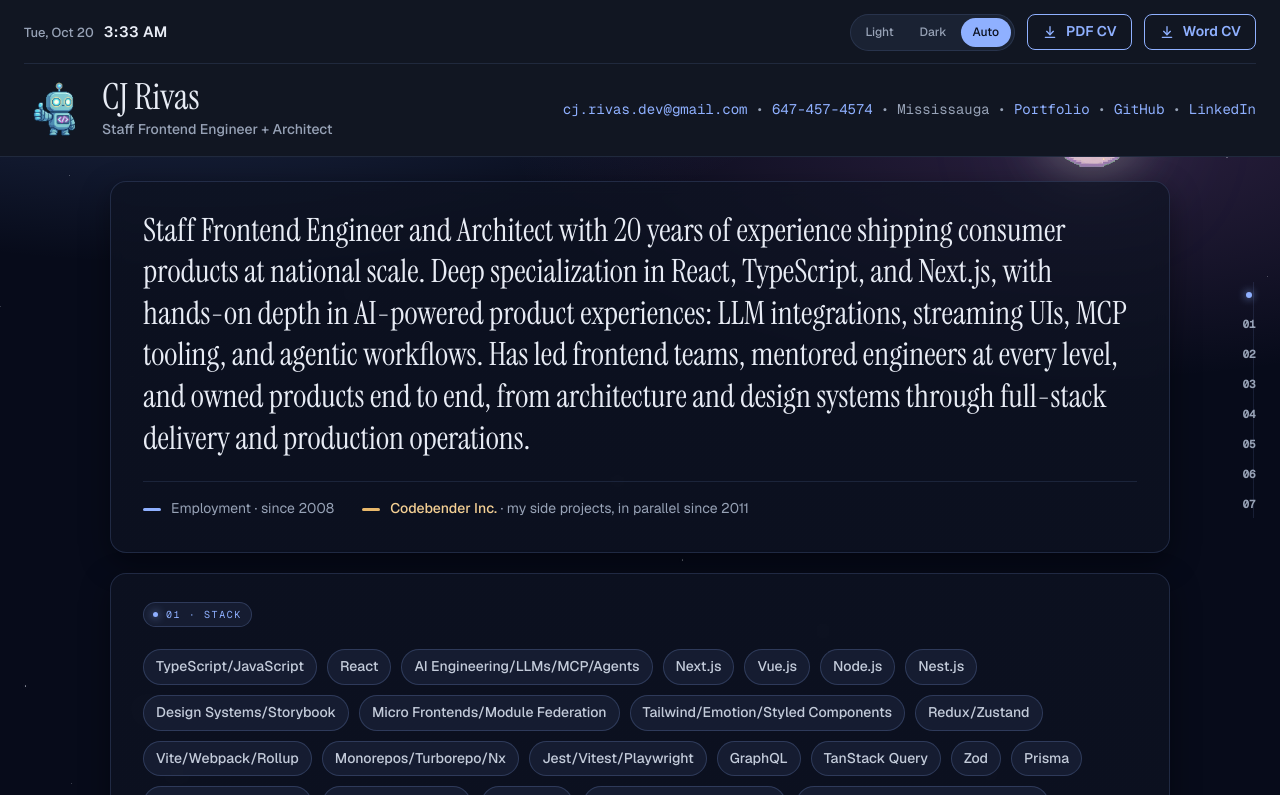
Test: App › ignores a second click while a generation is in flight
Click the button with aria-label "Download PDF CV" at (1079, 32), box 1027,14 -> 1132,50
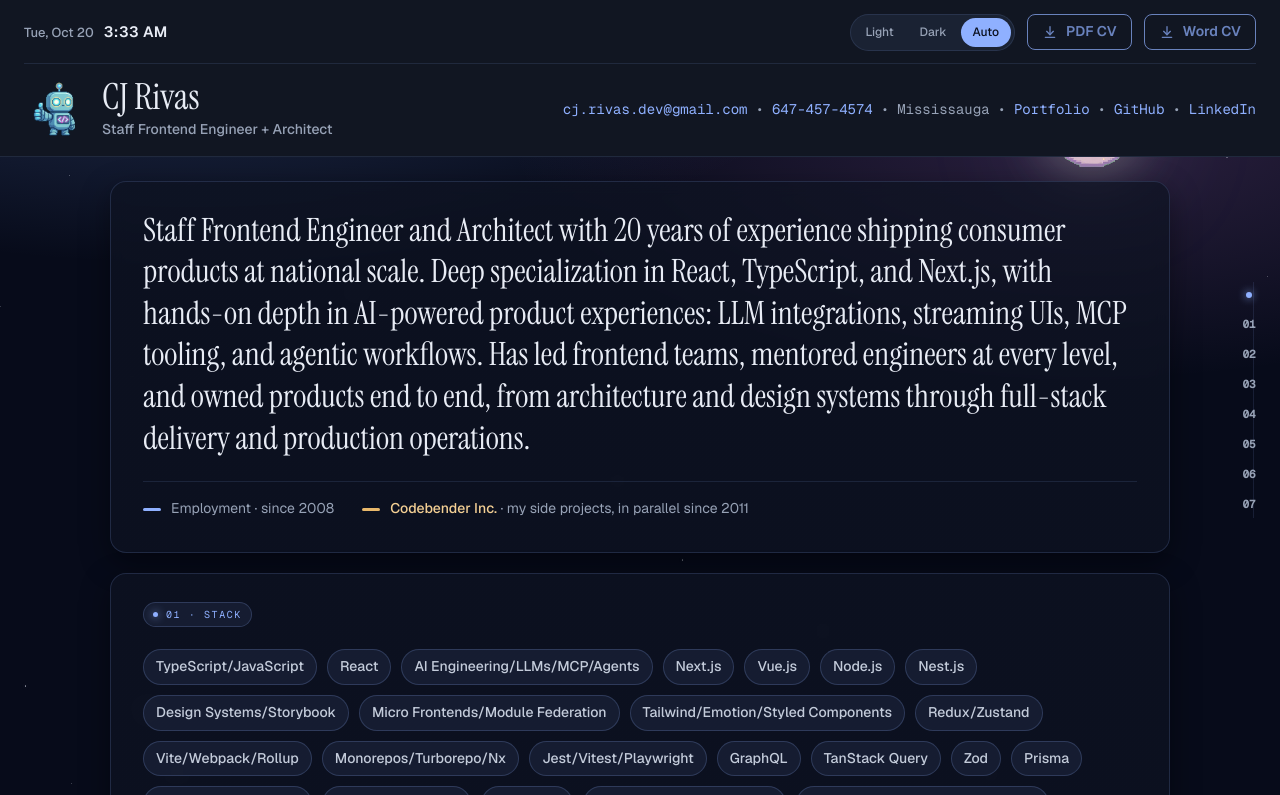
Result: the button with aria-label "Download PDF CV" is disabled
Click the button with aria-label "Download PDF CV" at (1079, 32), box 1027,14 -> 1132,50
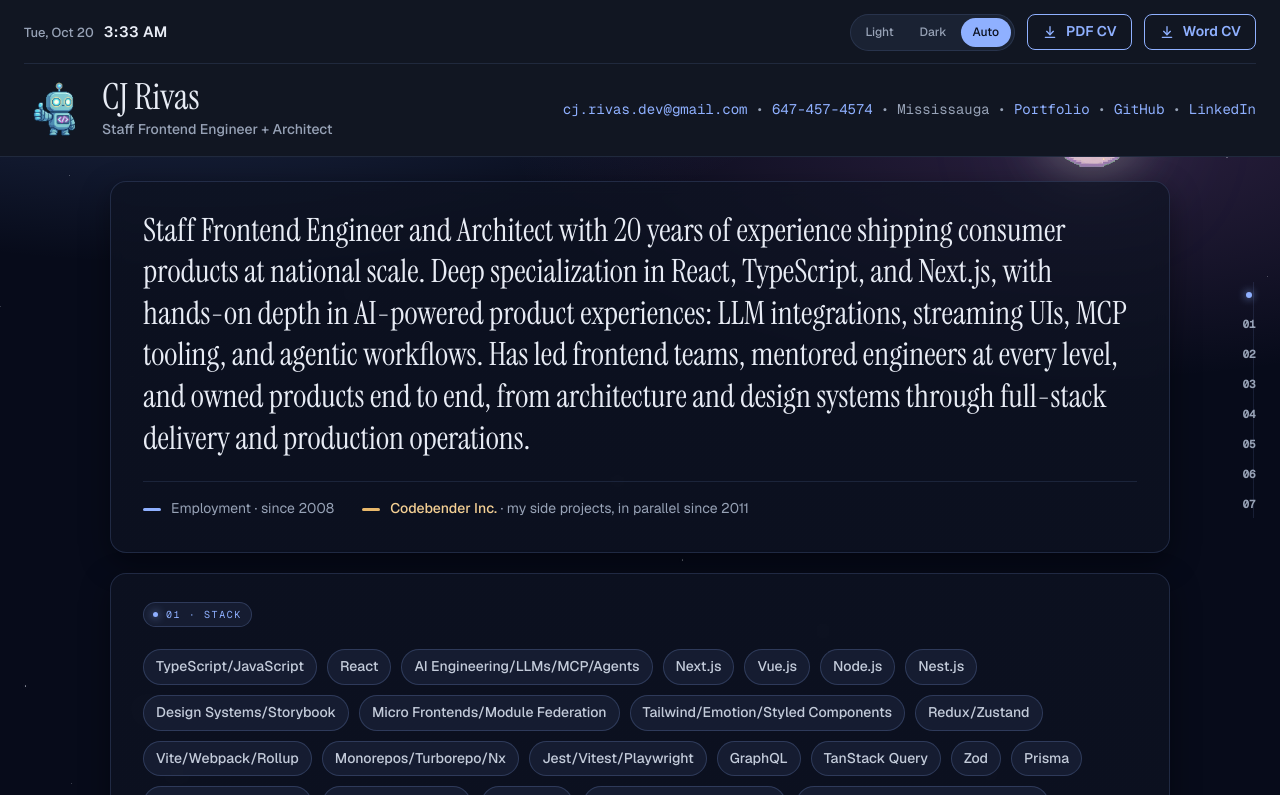
Result: the button with aria-label "Download PDF CV" is enabled at 1027,14 -> 1132,50
